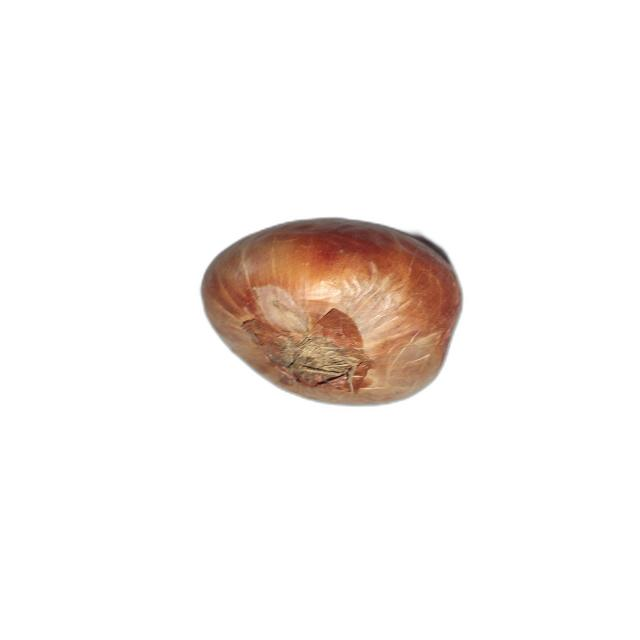onion: (200, 218, 463, 408)
